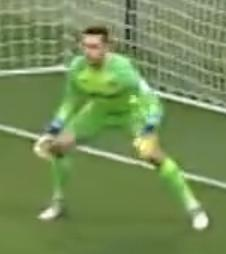goalkeeper: (13, 12, 226, 254)
